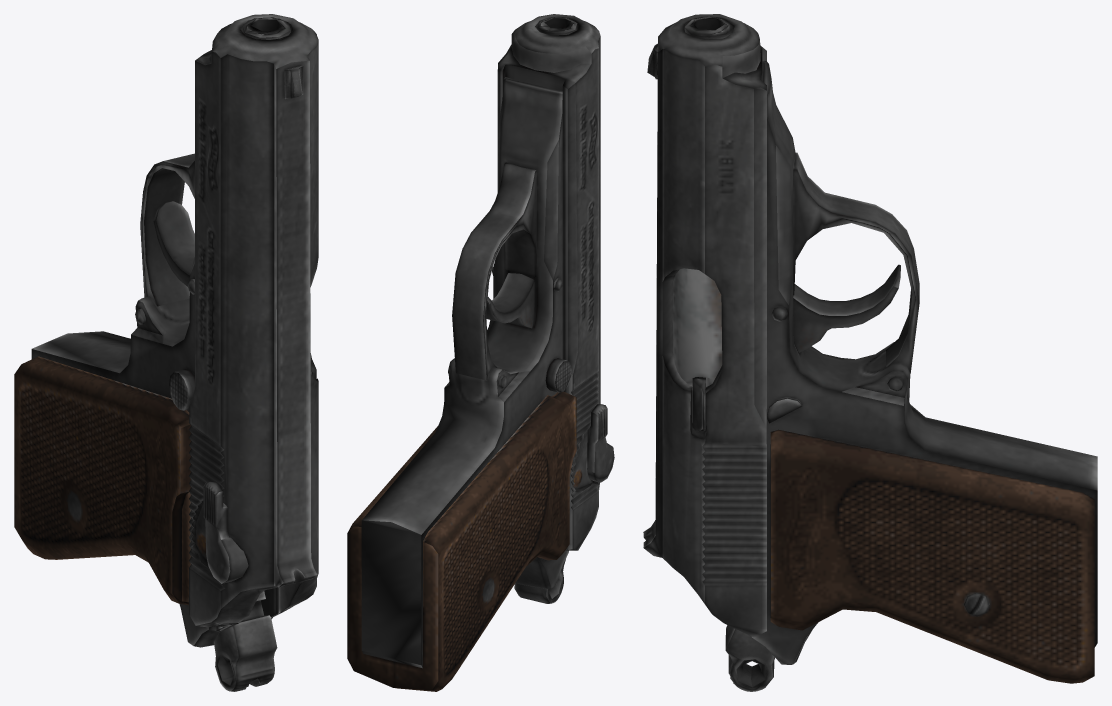
File: WaltherPPKNoMag.fbx
3 views of the same model, side by side, from view 1: azimuth 30°, elevation 25°; view 2: azimuth 150°, elevation 25°; view 3: azimuth 270°, elevation 25° (orthographic). The views are drawn at different scales.
Parts seen in each view (by area): view 1: Waltherppk; view 2: Waltherppk; view 3: Waltherppk.
Boxes of the visible parts, bbox=[...] form: Waltherppk: bbox=[14, 14, 318, 691]; Waltherppk: bbox=[347, 14, 614, 691]; Waltherppk: bbox=[643, 14, 1097, 691].
Size of the model in its own units: 0.0245 by 0.1363 by 0.085.
